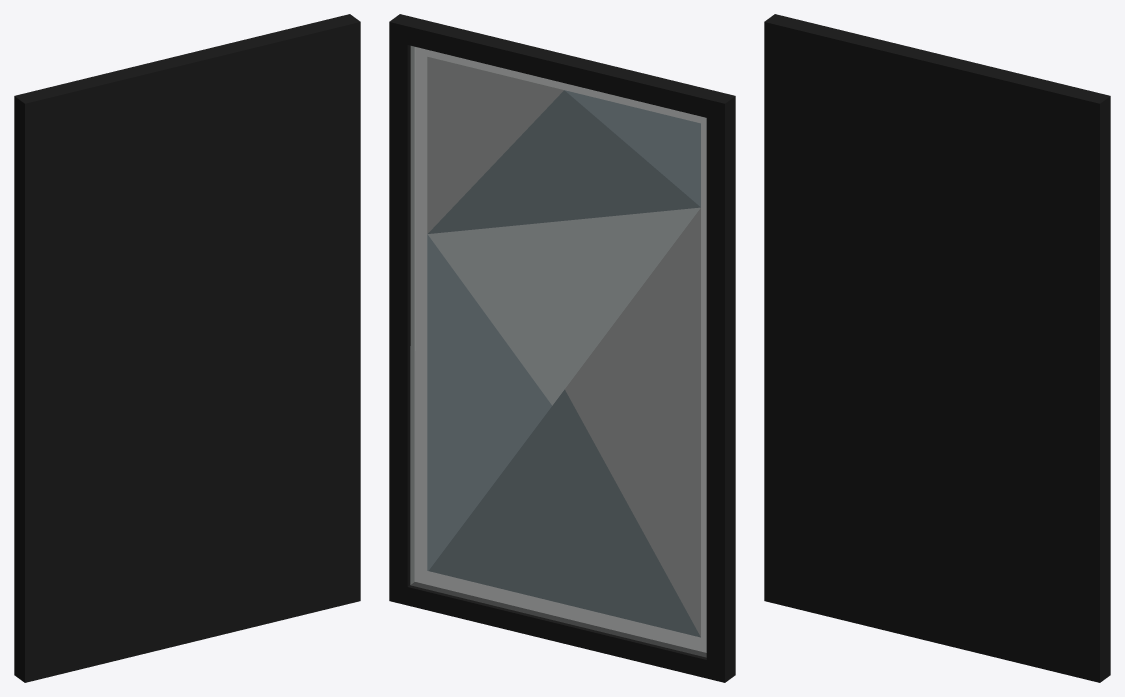
Rendered from Wall Art 06 (2).glb.
3 views of the same model, side by side, from view 1: azimuth 30°, elevation 25°; view 2: azimuth 150°, elevation 25°; view 3: azimuth 330°, elevation 25° (orthographic).
Parts seen in each view (by area): view 1: Node; view 2: Node; view 3: Node.
Boxes of the visible parts, x1,y1,x2,y2 form: Node: (14, 14, 360, 682); Node: (389, 14, 735, 682); Node: (764, 14, 1110, 682).
Bounding box in the file's own units: 0.54 × 0.89 × 0.03.
